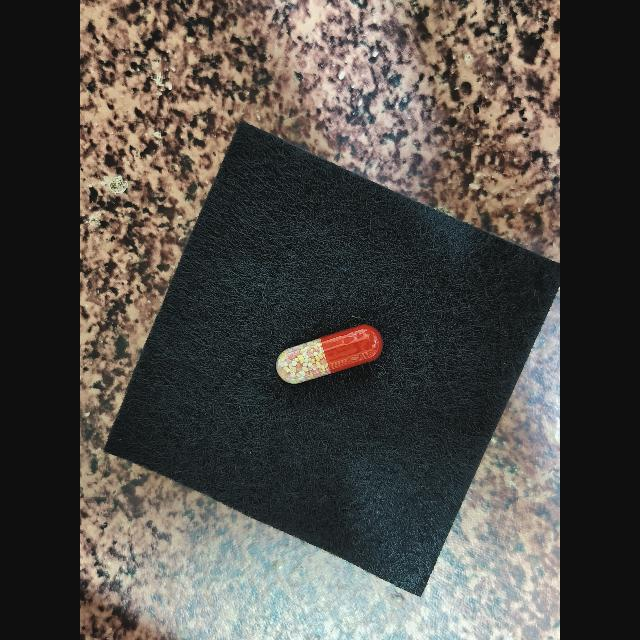Intact Capsule: (276, 324, 382, 384)
